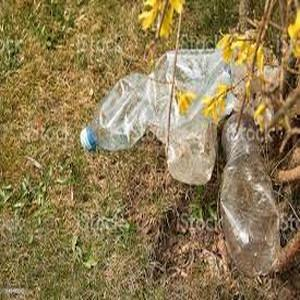Plastic: (221, 109, 282, 277), (80, 72, 160, 157)
